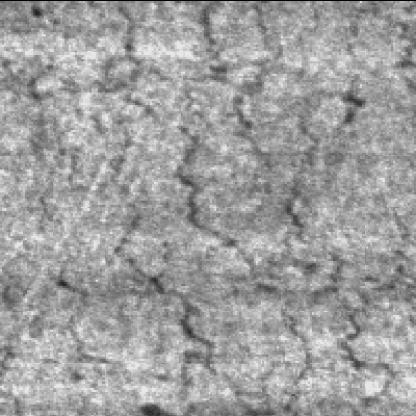crazing: (173, 6, 339, 372), (0, 9, 193, 296), (254, 256, 395, 416)
